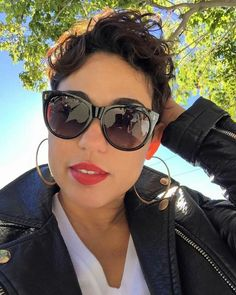sunglasses: (39, 90, 151, 147)
